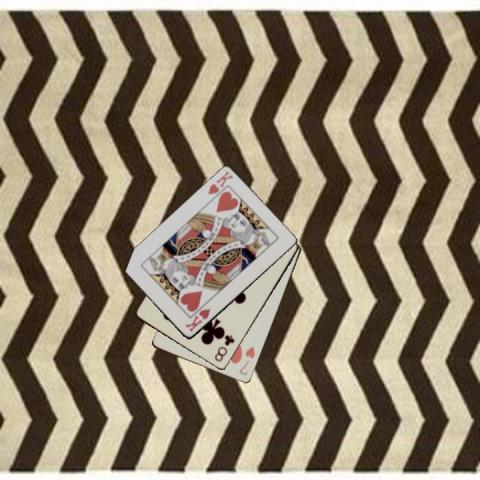7h: (236, 343, 257, 377)
8c: (211, 332, 236, 363)
Kh: (205, 168, 235, 197), (182, 306, 211, 333)
